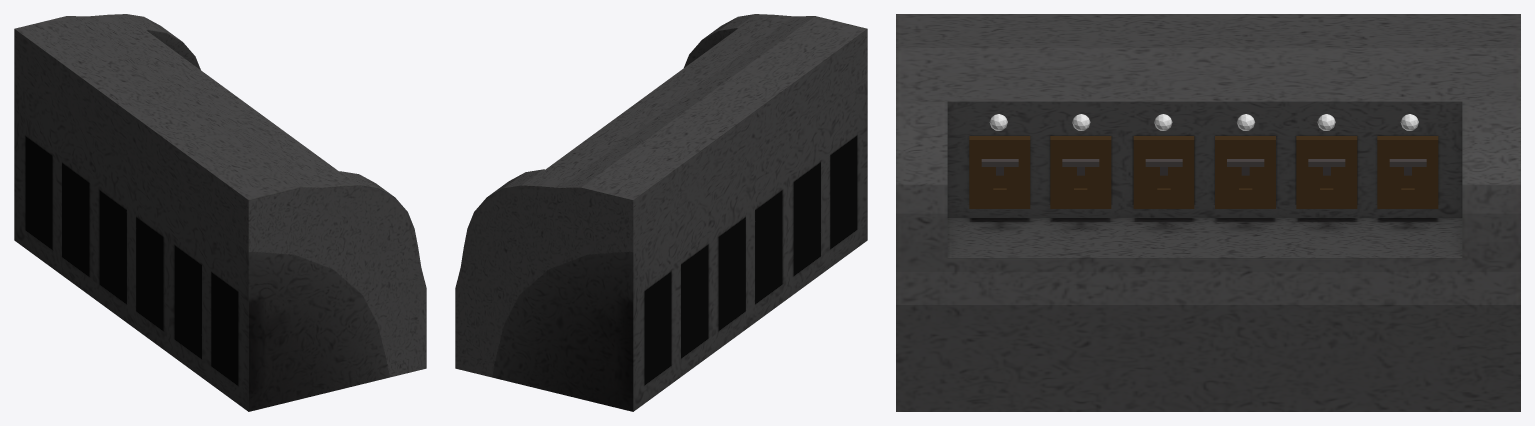
File: Lever_puzzle1_sup.fbx
3 views of the same model, side by side, from view 1: azimuth 30°, elevation 25°; view 2: azimuth 150°, elevation 25°; view 3: azimuth 270°, elevation 25° (orthographic). The views are drawn at different scales.
Parts seen in each view (by area): view 1: panel; view 2: panel; view 3: panel, leverBase.000, leverBase.001, leverBase.002, leverBase.004, leverBase.005, leverBase.003.
Part boxes in pixels (x1,y1,x2,y2): panel: (14,14,426,411); panel: (455,14,867,411); panel: (896,14,1520,411); leverBase.000: (969,136,1030,208); leverBase.001: (1050,136,1111,208); leverBase.002: (1133,136,1194,208); leverBase.004: (1296,136,1357,208); leverBase.005: (1377,136,1438,208); leverBase.003: (1215,136,1275,208).
Size of the model in its own units: 127 by 144 by 290.
4 materials, 1 textured.
